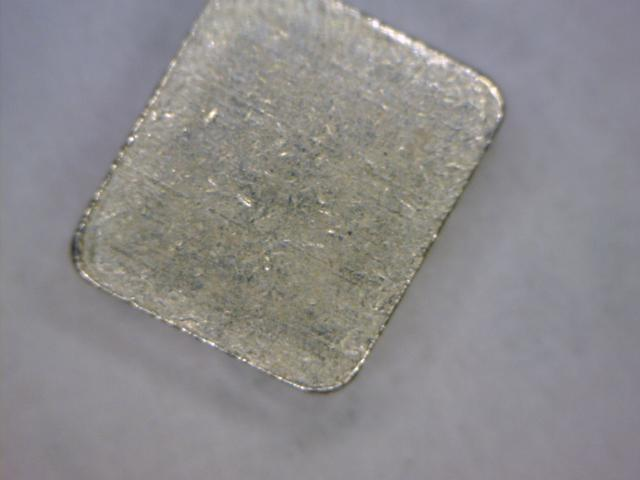ok: (65, 6, 515, 417)
